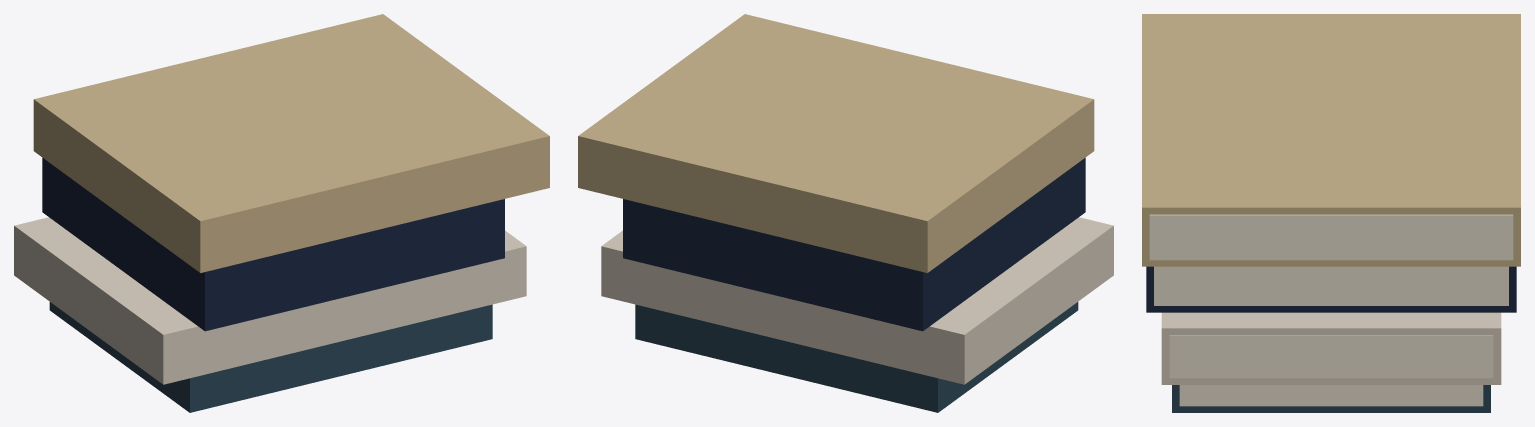
The model's file is SAB-BKS-std.glb.
3 renders of one model, left to right at view 1: azimuth 30°, elevation 25°; view 2: azimuth 150°, elevation 25°; view 3: azimuth 270°, elevation 25°, orthographic. The views are drawn at different scales.
Visible parts, largest first — view 1: SAB-BKS-std; view 2: SAB-BKS-std; view 3: SAB-BKS-std.
Part boxes in pixels (box(x1,y1,x2,y2)): SAB-BKS-std: box(14, 14, 549, 412); SAB-BKS-std: box(578, 14, 1113, 412); SAB-BKS-std: box(1142, 14, 1520, 412).
Bounding box in the file's own units: 0.2563 × 0.1307 × 0.1955.
